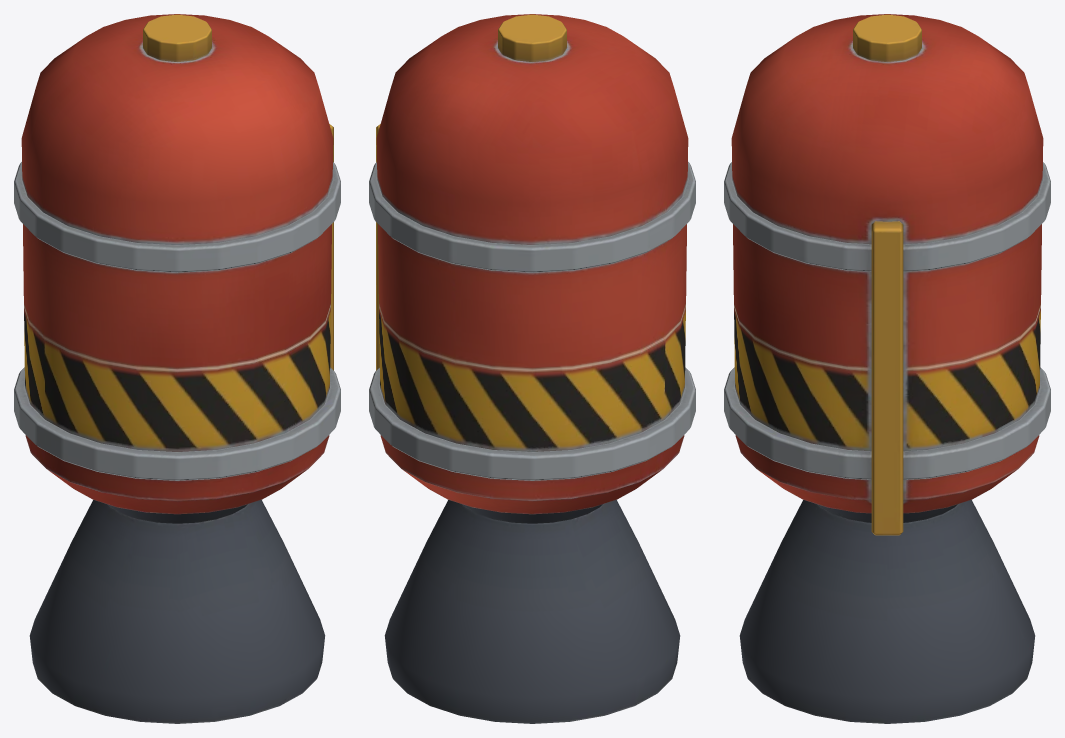
Rendered from thruster-v001.glb.
3 renders of one model, left to right at view 1: azimuth 30°, elevation 25°; view 2: azimuth 150°, elevation 25°; view 3: azimuth 270°, elevation 25°, orthographic.
Parts seen in each view (by area): view 1: Thruster; view 2: Thruster; view 3: Thruster.
Part boxes in pixels (bbox=[...]): Thruster: bbox=[14, 14, 340, 723]; Thruster: bbox=[369, 14, 695, 723]; Thruster: bbox=[724, 14, 1050, 723].
Size of the model in its own units: 0.3376 by 0.701 by 0.3272.
1 material, 1 textured.
